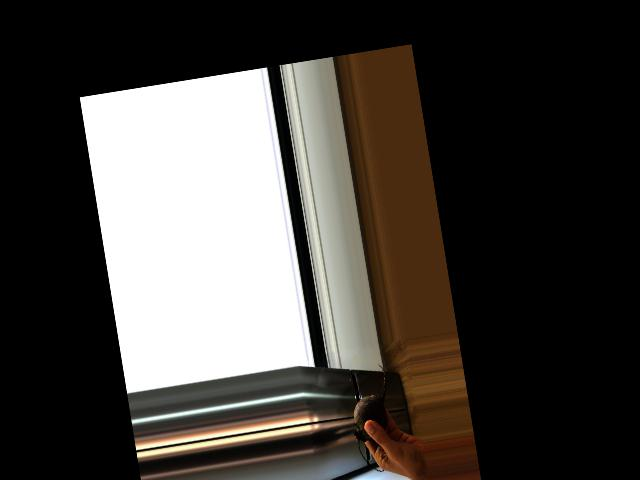beet: (344, 362, 400, 474)
